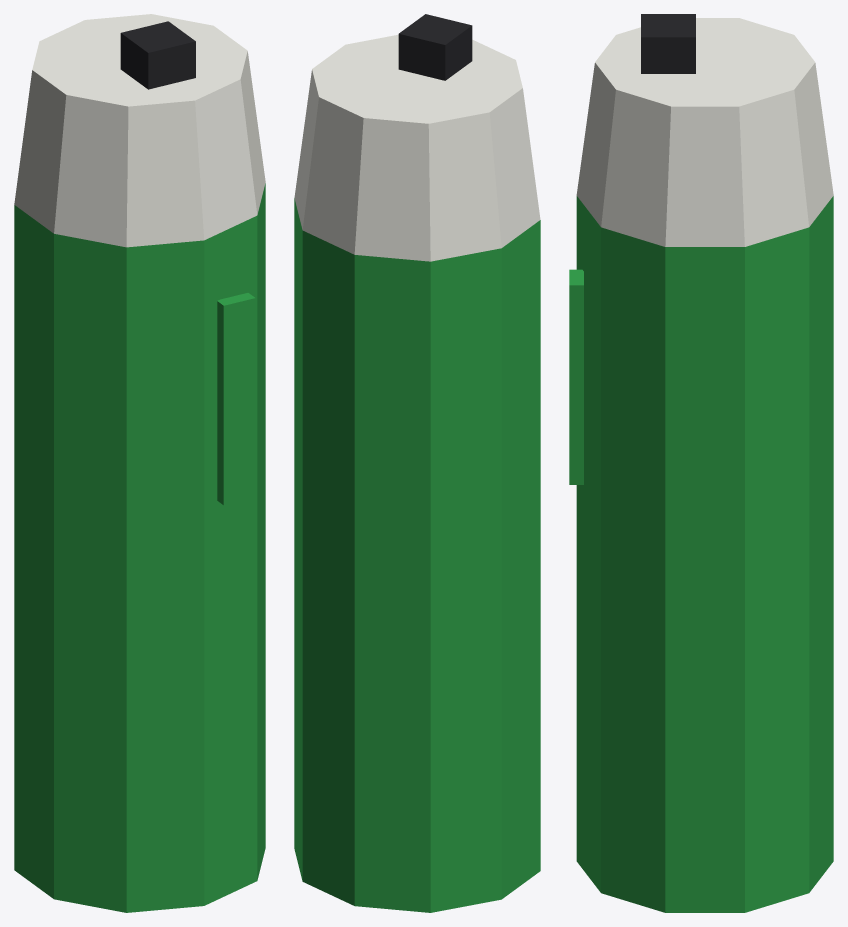
Rendered from garage_spray_can.glb.
3 renders of one model, left to right at view 1: azimuth 30°, elevation 25°; view 2: azimuth 150°, elevation 25°; view 3: azimuth 270°, elevation 25°, orthographic. The views are drawn at different scales.
Parts seen in each view (by area): view 1: can_spray_green, cap_spray_cap, drip_spray_green, nozzle_flash_black; view 2: can_spray_green, cap_spray_cap, nozzle_flash_black; view 3: can_spray_green, cap_spray_cap, nozzle_flash_black, drip_spray_green.
Part boxes in pixels (left/top/right/bottom): can_spray_green: left=14, top=183, right=265, bottom=912; cap_spray_cap: left=14, top=14, right=265, bottom=247; drip_spray_green: left=217, top=293, right=255, bottom=505; nozzle_flash_black: left=120, top=21, right=195, bottom=89; can_spray_green: left=294, top=198, right=540, bottom=912; cap_spray_cap: left=294, top=34, right=540, bottom=261; nozzle_flash_black: left=398, top=14, right=472, bottom=80; can_spray_green: left=576, top=196, right=833, bottom=912; cap_spray_cap: left=576, top=18, right=833, bottom=246; nozzle_flash_black: left=641, top=14, right=695, bottom=73; drip_spray_green: left=569, top=269, right=583, bottom=484.
Bounding box in the file's own units: 0.0666 × 0.251 × 0.072.
